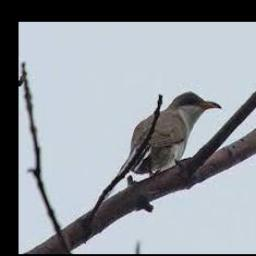Cuckoo: (125, 90, 220, 174)
